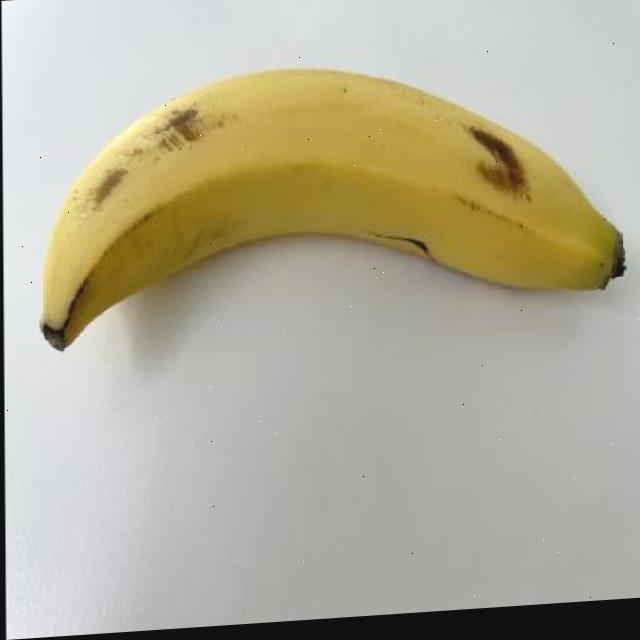banana: (29, 32, 631, 365)
